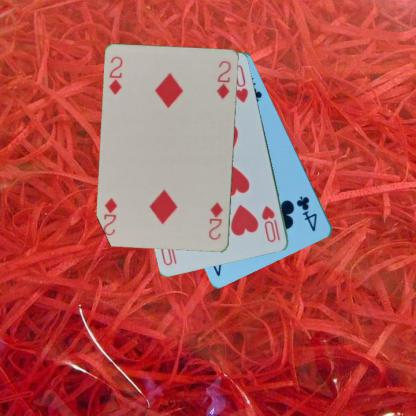10h: (259, 203, 282, 244)
2d: (206, 200, 225, 241), (107, 54, 124, 96)
4c: (294, 194, 319, 234)
